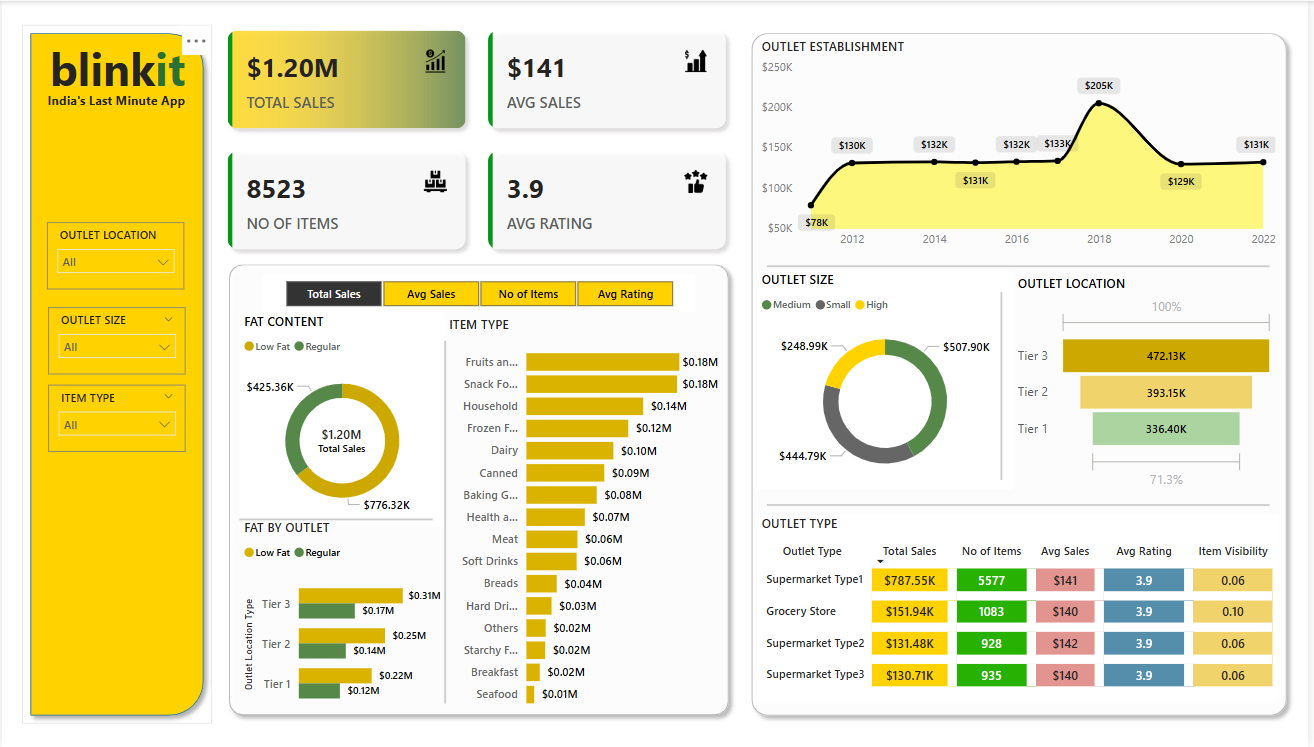

The dashboard page shown, as its layout file describes it:
{"tool":"powerbi","page":{"name":"Page 1","canvas":[1400,800],"ordinal":0},"visuals":[{"type":"shape","box":[21.2,25,203.8,750],"z":0},{"type":"textbox","box":[34.7,34.7,177.8,76.4],"z":1000},{"type":"textbox","box":[29.5,92.5,186.3,36.2],"z":2000},{"type":"cardVisual","fields":{"Data":["BlinkIT Grocery Data.Total Sales","BlinkIT Grocery Data.Avg Sales","BlinkIT Grocery Data.No of Items","BlinkIT Grocery Data.Avg Rating"]},"box":[225.2,14.7,569.7,269.4],"z":3000},{"type":"shape","box":[234.6,273.5,553.6,501.3],"z":4000},{"type":"donutChart","title":"FAT CONTENT","fields":{"Y":["BlinkIT Grocery Data.Total Sales"],"Category":["BlinkIT Grocery Data.Item Fat Content"]},"box":[254.2,333.3,220.8,230.6],"z":5000},{"type":"slicer","fields":{"Values":["Metrics.Metrics"]},"box":[278.8,293.6,465,40.2],"z":6000},{"type":"cardVisual","fields":{"Data":["BlinkIT Grocery Data.Total Sales"]},"box":[317.7,438.3,93.8,57.6],"z":7000},{"type":"clusteredBarChart","title":"FAT BY OUTLET","fields":{"Y":["BlinkIT Grocery Data.Total Sales"],"Category":["BlinkIT Grocery Data.Outlet Location Type"],"Series":["BlinkIT Grocery Data.Item Fat Content"]},"box":[254.2,555.6,220.8,216.7],"z":8000},{"type":"shape","box":[254.2,527.8,206.9,55.6],"z":9000},{"type":"shape","box":[436.1,365.3,79.2,388.9],"z":10000},{"type":"barChart","title":"ITEM TYPE","fields":{"Y":["BlinkIT Grocery Data.Total Sales"],"Category":["BlinkIT Grocery Data.Item Type"]},"box":[474.5,337.8,298.9,430.3],"z":11000},{"type":"shape","box":[794.4,25,591.7,750],"z":12000},{"type":"lineChart","title":"OUTLET ESTABLISHMENT","fields":{"Y":["BlinkIT Grocery Data.Total Sales"],"Category":["BlinkIT Grocery Data.Outlet Establishment Year"]},"box":[809.7,38.9,561.1,234.7],"z":13000},{"type":"shape","box":[820.8,256.9,538.9,54.2],"z":14000},{"type":"donutChart","title":"OUTLET SIZE","fields":{"Y":["BlinkIT Grocery Data.Total Sales"],"Category":["BlinkIT Grocery Data.Outlet Size"]},"box":[809.7,288.9,275,234.7],"z":15000},{"type":"shape","box":[1031.9,312.5,79.2,201.4],"z":16000},{"type":"funnel","title":"OUTLET LOCATION","fields":{"Y":["Sum(BlinkIT Grocery Data.Sales)"],"Category":["BlinkIT Grocery Data.Outlet Location Type"]},"box":[1084.7,293.1,284.7,234.7],"z":17000},{"type":"shape","box":[820.8,513.9,538.9,54.2],"z":18000},{"type":"pivotTable","title":"OUTLET TYPE","fields":{"Rows":["BlinkIT Grocery Data.Outlet Type"],"Values":["BlinkIT Grocery Data.Total Sales","BlinkIT Grocery Data.No of Items","BlinkIT Grocery Data.Avg Sales","BlinkIT Grocery Data.Avg Rating","Avg(BlinkIT Grocery Data.Item Visibility)"]},"box":[809.7,551.4,559.7,202.8],"z":19000},{"type":"slicer","fields":{"Values":["BlinkIT Grocery Data.Outlet Location Type"]},"box":[48.6,237.5,147.2,72.2],"z":20000},{"type":"slicer","fields":{"Values":["BlinkIT Grocery Data.Outlet Size"]},"box":[50,327.8,147.2,72.2],"z":21000},{"type":"slicer","fields":{"Values":["BlinkIT Grocery Data.Item Type"]},"box":[50,411.1,147.2,72.2],"z":22000}]}

Visuals, with their boxes in screenshot pixels (x1, y1, x2, y2), scaled from the page's 1400x800 canvas onto the 1314x747 screenshot:
shape: locate(20, 23, 211, 724)
textbox: locate(33, 32, 199, 104)
textbox: locate(28, 86, 203, 120)
cardVisual - BlinkIT Grocery Data.Total Sales x BlinkIT Grocery Data.Avg Sales: locate(211, 14, 746, 265)
shape: locate(220, 255, 740, 723)
"FAT CONTENT" donutChart: locate(239, 311, 446, 527)
slicer - Metrics.Metrics: locate(262, 274, 698, 312)
cardVisual - BlinkIT Grocery Data.Total Sales: locate(298, 409, 386, 463)
"FAT BY OUTLET" clusteredBarChart: locate(239, 519, 446, 721)
shape: locate(239, 493, 433, 545)
shape: locate(409, 341, 484, 704)
"ITEM TYPE" barChart: locate(445, 315, 726, 717)
shape: locate(746, 23, 1301, 724)
"OUTLET ESTABLISHMENT" lineChart: locate(760, 36, 1287, 255)
shape: locate(770, 240, 1276, 290)
"OUTLET SIZE" donutChart: locate(760, 270, 1018, 489)
shape: locate(969, 292, 1043, 480)
"OUTLET LOCATION" funnel: locate(1018, 274, 1285, 493)
shape: locate(770, 480, 1276, 530)
"OUTLET TYPE" pivotTable: locate(760, 515, 1285, 704)
slicer - BlinkIT Grocery Data.Outlet Location Type: locate(46, 222, 184, 289)
slicer - BlinkIT Grocery Data.Outlet Size: locate(47, 306, 185, 374)
slicer - BlinkIT Grocery Data.Item Type: locate(47, 384, 185, 451)
